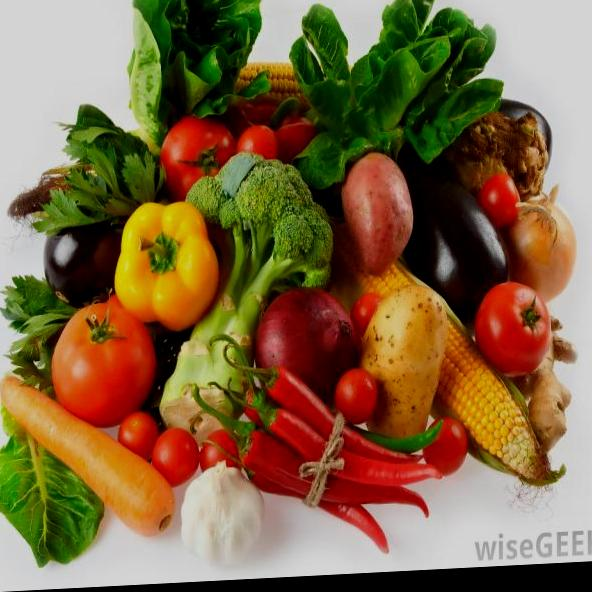Tomato: (118, 406, 162, 457)
broccoli: (152, 142, 342, 451)
carrots: (0, 358, 191, 575)
tomatoes: (44, 292, 162, 419), (468, 269, 553, 386), (142, 418, 195, 492), (475, 172, 523, 227)
